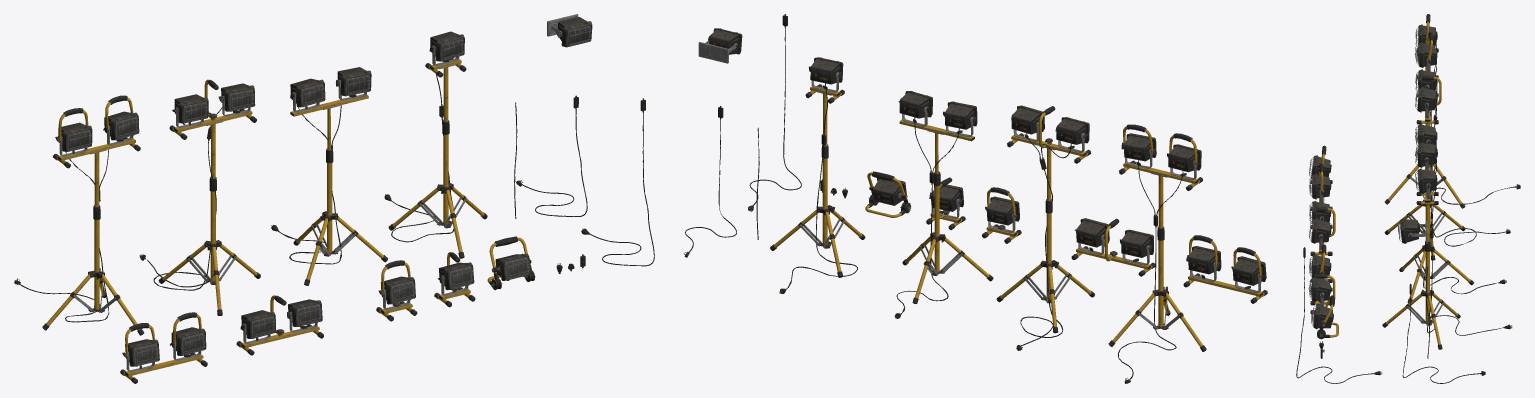
File: flood_lights.glb
3 renders of one model, left to right at view 1: azimuth 30°, elevation 25°; view 2: azimuth 150°, elevation 25°; view 3: azimuth 270°, elevation 25°, orthographic. The views are drawn at different scales.
Visible parts, largest first — view 1: flood_lights_standing_double_c_stand, flood_lights_standing_single_stand, flood_lights_standing_double_b_stand, flood_lights_standing_double_a_stand, flood_lights_wall_light, flood_lights_standing_double_c_light_02, flood_lights_standing_double_b_light_01, flood_lights_standing_single_light, flood_lights_standing_double_a_bar, flood_lights_standing_double_b_light_02, flood_lights_floor_double_b_light_01, flood_lights_standing_double_c_light_01 (+13 smaller); view 2: flood_lights_standing_single_stand, flood_lights_standing_double_c_stand, flood_lights_standing_double_b_stand, flood_lights_standing_double_a_stand, flood_lights_standing_double_a_bar, flood_lights_standing_double_c_light_01, flood_lights_floor_double_b_light_01, flood_lights_standing_double_b_light_01, flood_lights_standing_single_light, flood_lights_floor_double_a_light_01, flood_lights_standing_double_c_light_02, flood_lights_floor_single_a_light (+16 smaller); view 3: flood_lights_standing_single_stand, flood_lights_standing_double_c_stand, flood_lights_standing_double_b_stand, flood_lights_standing_double_a_stand, flood_lights_standing_double_c_light_02, flood_lights_standing_double_b_light_02, flood_lights_floor_single_b_light, flood_lights_standing_single_light, flood_lights_floor_double_b_light_02, flood_lights_wall_light, flood_lights_standing_double_a_light_02, flood_lights_floor_single_light_c (+15 smaller).
Boxes of the visible parts, x1,y1,x2,y2 form: flood_lights_standing_double_c_stand: (293,148,388,285); flood_lights_standing_single_stand: (388,120,487,258); flood_lights_standing_double_b_stand: (158,176,260,315); flood_lights_standing_double_a_stand: (42,205,144,335); flood_lights_wall_light: (556,17,592,47); flood_lights_standing_double_c_light_02: (336,67,371,96); flood_lights_standing_double_b_light_01: (172,94,208,123); flood_lights_standing_single_light: (429,31,464,61); flood_lights_standing_double_a_bar: (53,137,140,206); flood_lights_standing_double_b_light_02: (218,83,255,111); flood_lights_floor_double_b_light_01: (240,310,275,338); flood_lights_standing_double_c_light_01: (290,78,325,107); flood_lights_standing_single_stand: (770,144,865,277); flood_lights_standing_double_c_stand: (902,171,993,303); flood_lights_standing_double_b_stand: (996,199,1094,333); flood_lights_standing_double_a_stand: (1108,226,1206,351); flood_lights_standing_double_a_bar: (1119,160,1202,227); flood_lights_standing_double_c_light_01: (943,101,977,129); flood_lights_floor_double_b_light_01: (1120,229,1153,257); flood_lights_standing_double_b_light_01: (1055,117,1089,144); flood_lights_standing_single_light: (808,57,843,84); flood_lights_floor_double_a_light_01: (1232,256,1266,285); flood_lights_standing_double_c_light_02: (898,91,932,118); flood_lights_floor_single_a_light: (986,196,1019,225); flood_lights_standing_single_stand: (1382,240,1460,349); flood_lights_standing_double_c_stand: (1399,204,1473,303); flood_lights_standing_double_b_stand: (1384,199,1465,260); flood_lights_standing_double_a_stand: (1384,111,1465,208); flood_lights_standing_double_c_light_02: (1415,142,1437,167); flood_lights_standing_double_b_light_02: (1415,86,1437,112); flood_lights_floor_single_b_light: (1308,277,1331,302); flood_lights_standing_single_light: (1415,168,1437,193); flood_lights_floor_double_b_light_02: (1309,218,1331,243); flood_lights_wall_light: (1398,218,1420,243); flood_lights_standing_double_a_light_02: (1414,42,1437,67); flood_lights_floor_single_light_c: (1311,304,1333,329).
Size of the model in its own units: 4.6 by 1.81 by 2.11.
Materials: 2 (2 with a texture image).
